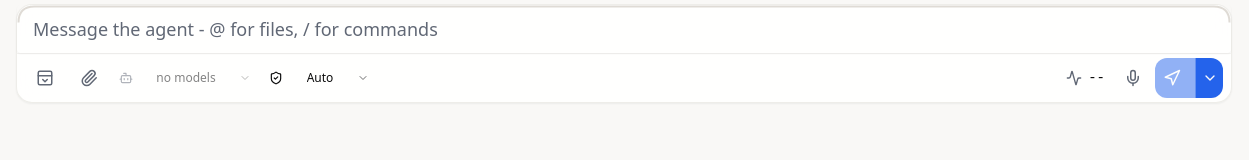
Scenario: Composer › restores the draft and surfaces an error when reliable submit fails
The image size is (1249, 160).
Type "keep this draft" into the text box with test id "composer-input" at (624, 29), box [17,5,1231,53]
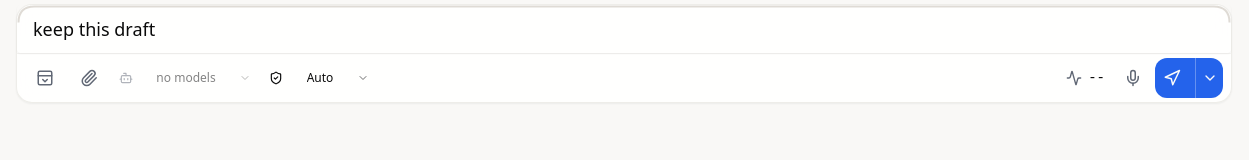
Press Enter in the text box with test id "composer-input", box [17,5,1231,53]
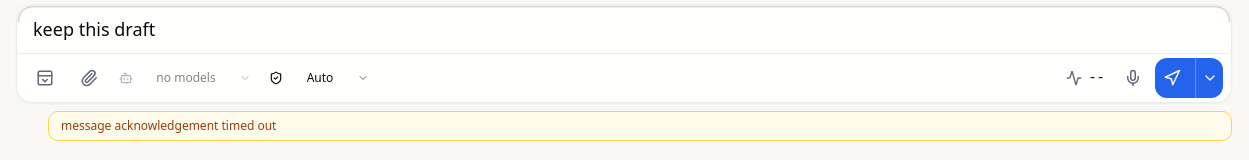
Check: the text "message acknowledgement timed out" is shown, box [48,111,1232,141]
